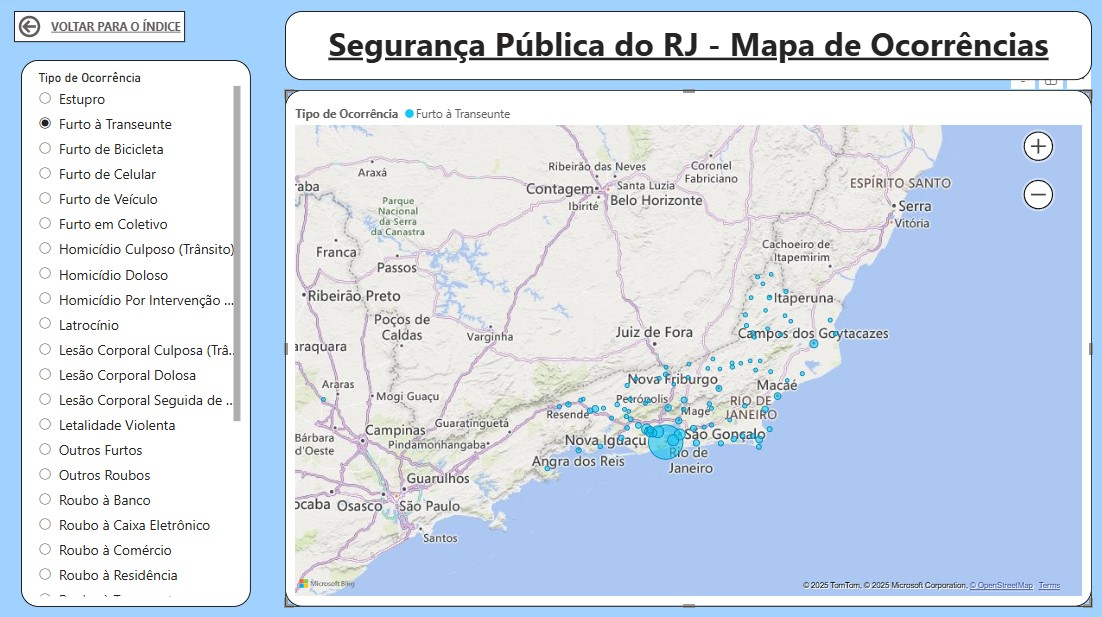

Layout of this report page (visuals, bound fields, positions):
{"tool":"powerbi","page":{"name":"Mapa de Ocorrências","canvas":[1280,720],"ordinal":4},"visuals":[{"type":"map","fields":{"Series":["seguranca_rj_mensal.Tipo de Ocorrência"],"Category":["MunicipiosRJ.nome"],"Size":["seguranca_rj_mensal.Quantidade"]},"box":[331.1,108.8,934.1,598.5],"z":0},{"type":"slicer","fields":{"Values":["seguranca_rj_mensal.Tipo de Ocorrência"]},"box":[25.5,74.1,266.2,633.2],"z":1000},{"type":"actionButton","title":"VOLTAR","box":[17.4,17.4,197.9,35.9],"z":2000},{"type":"textbox","box":[331.1,17.4,934.1,79.9],"z":3000}]}

Visuals, with their boxes in screenshot pixels (x1, y1, x2, y2), scaled from the page's 1280x720 canvas onto the 1102x617 screenshot:
map - seguranca_rj_mensal.Tipo de Ocorrência x MunicipiosRJ.nome: <bbox>285, 93, 1089, 606</bbox>
slicer - seguranca_rj_mensal.Tipo de Ocorrência: <bbox>22, 63, 251, 606</bbox>
"VOLTAR" actionButton: <bbox>15, 15, 185, 46</bbox>
textbox: <bbox>285, 15, 1089, 83</bbox>
